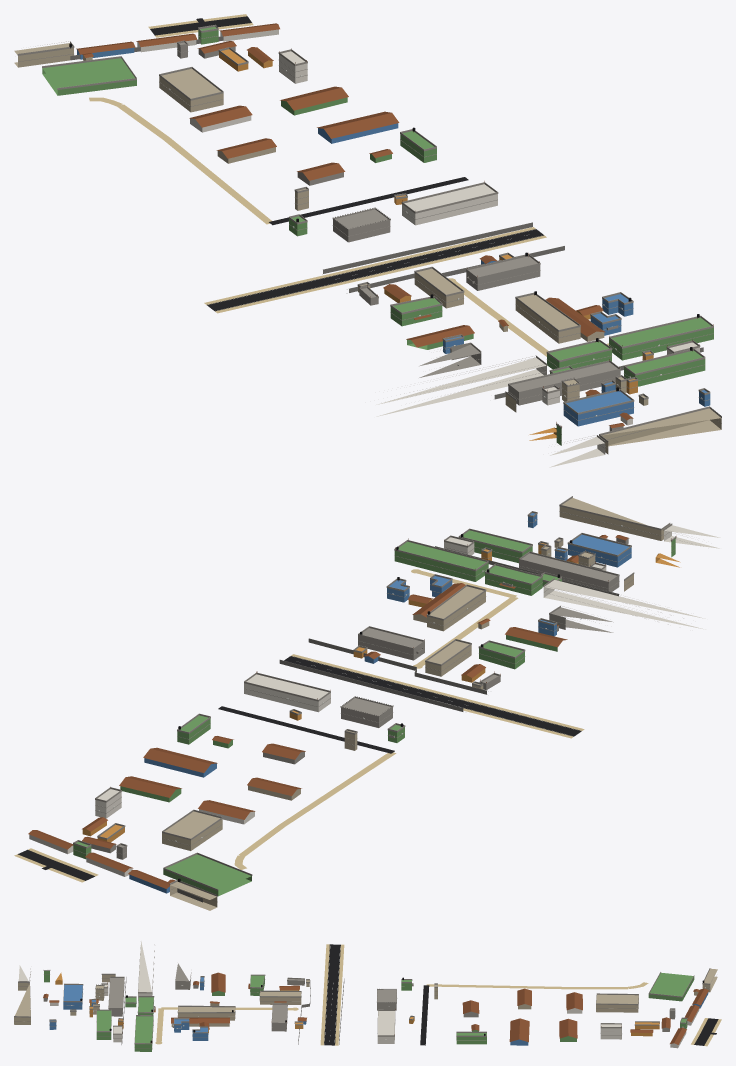
The model's file is zone_t7_1.glb.
The picture shows the model from 3 angles, top to bottom: view 1: azimuth 30°, elevation 25°; view 2: azimuth 150°, elevation 25°; view 3: azimuth 270°, elevation 25°; orthographic projection. The views are drawn at different scales.
Visible parts, largest first — view 1: bld_peinture_vert_t7_1-col, bld_peinture_ecaillee_t7_1-col, parapet_t7_1, toit_tole_t7_1, bld_peinture_blanc_t7_1-col, bld_beton_t7_1-col, bld_peinture_bleu_t7_1-col, route_tertiary_bitume_t7_1, accotement_t7_1, route_service_terre_t7_1, mur_wall_t7_1-col, bandeau_t7_1 (+3 smaller); view 2: bld_peinture_vert_t7_1-col, bld_peinture_ecaillee_t7_1-col, parapet_t7_1, toit_tole_t7_1, bld_peinture_blanc_t7_1-col, bld_beton_t7_1-col, bld_peinture_bleu_t7_1-col, route_tertiary_bitume_t7_1, mur_wall_t7_1-col, route_service_terre_t7_1, accotement_t7_1, bandeau_t7_1 (+3 smaller); view 3: bld_peinture_vert_t7_1-col, bld_peinture_ecaillee_t7_1-col, toit_tole_t7_1, parapet_t7_1, bld_beton_t7_1-col, bld_peinture_blanc_t7_1-col, route_tertiary_bitume_t7_1, bld_peinture_bleu_t7_1-col, route_service_terre_t7_1, accotement_t7_1, bandeau_t7_1, bld_peinture_ocre_t7_1-col (+3 smaller).
Boxes of the visible parts, box(x1,y1,x2,y2) form: bld_peinture_vert_t7_1-col: box(42, 27, 713, 445); bld_peinture_ecaillee_t7_1-col: box(14, 43, 721, 454); parapet_t7_1: box(17, 24, 721, 443); toit_tole_t7_1: box(76, 23, 633, 428); bld_peinture_blanc_t7_1-col: box(137, 29, 699, 467); bld_beton_t7_1-col: box(177, 42, 623, 431); bld_peinture_bleu_t7_1-col: box(77, 47, 710, 426); route_tertiary_bitume_t7_1: box(207, 229, 543, 311); accotement_t7_1: box(148, 14, 546, 313); route_service_terre_t7_1: box(89, 97, 608, 356); mur_wall_t7_1-col: box(70, 36, 703, 399); bandeau_t7_1: box(18, 35, 721, 450); bld_peinture_vert_t7_1-col: box(73, 530, 675, 896); bld_peinture_ecaillee_t7_1-col: box(162, 498, 665, 910); parapet_t7_1: box(73, 496, 687, 896); toit_tole_t7_1: box(28, 535, 629, 888); bld_peinture_blanc_t7_1-col: box(29, 525, 720, 876); bld_beton_t7_1-col: box(88, 537, 628, 859); bld_peinture_bleu_t7_1-col: box(129, 513, 631, 893); route_tertiary_bitume_t7_1: box(284, 656, 581, 736); mur_wall_t7_1-col: box(131, 546, 619, 902); route_service_terre_t7_1: box(234, 569, 518, 869); accotement_t7_1: box(14, 654, 584, 882); bandeau_t7_1: box(73, 511, 691, 901); bld_peinture_vert_t7_1-col: box(44, 971, 694, 1051); bld_peinture_ecaillee_t7_1-col: box(14, 968, 717, 1026); toit_tole_t7_1: box(43, 972, 708, 1044); parapet_t7_1: box(14, 944, 714, 1044); bld_beton_t7_1-col: box(43, 963, 675, 1031); bld_peinture_blanc_t7_1-col: box(18, 941, 699, 1048); route_tertiary_bitume_t7_1: box(324, 944, 340, 1045); bld_peinture_bleu_t7_1-col: box(49, 977, 708, 1045); route_service_terre_t7_1: box(155, 982, 648, 1044); accotement_t7_1: box(320, 944, 721, 1046); bandeau_t7_1: box(14, 951, 713, 1048); bld_peinture_ocre_t7_1-col: box(55, 972, 659, 1036).
Bounding box in the file's own units: 184 × 10.9 × 511.
